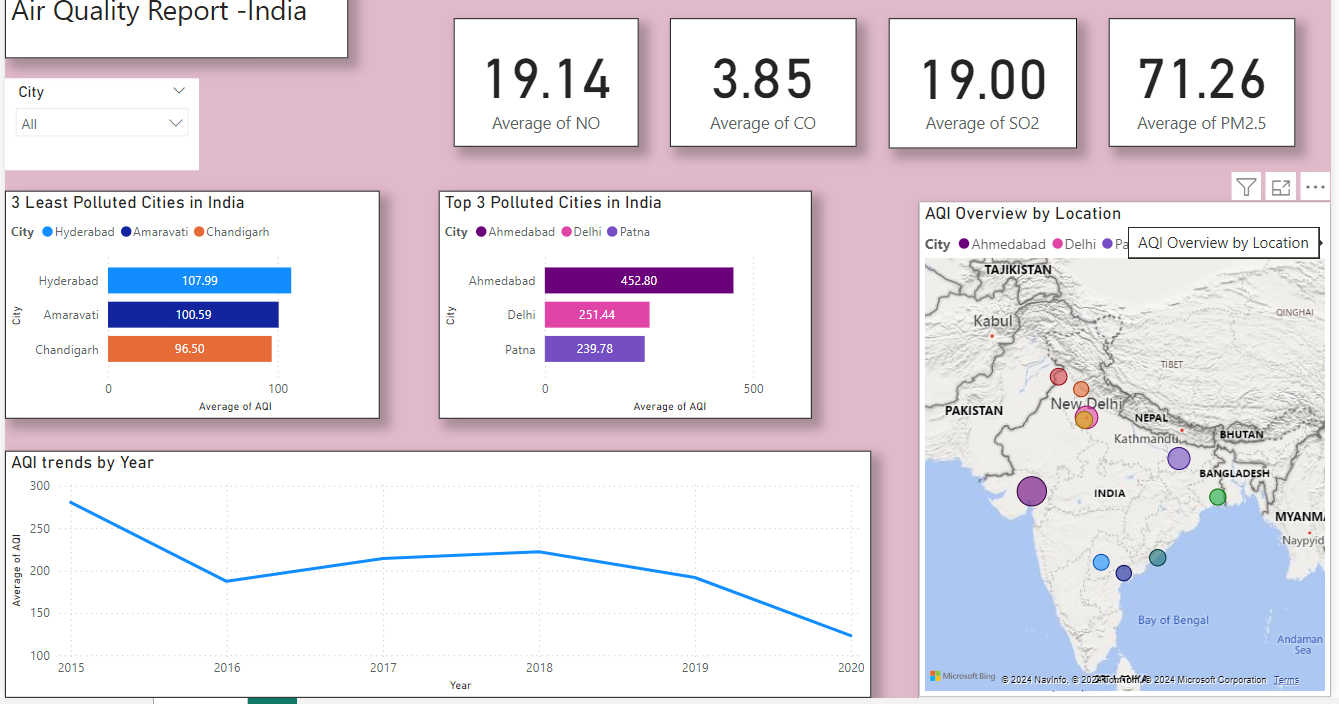

Layout of this report page (visuals, bound fields, positions):
{"tool":"powerbi","page":{"name":"Page 1","canvas":[1280,720],"ordinal":0},"visuals":[{"type":"lineChart","title":" AQI trends by Year","fields":{"Category":["city_day.Date.Variation.Date Hierarchy.Year","city_day.Date.Variation.Date Hierarchy.Quarter","city_day.Date.Variation.Date Hierarchy.Month","city_day.Date.Variation.Date Hierarchy.Day"],"Y":["Avg(city_day.AQI)"]},"box":[0,481.4,835.7,238.6],"z":0},{"type":"slicer","fields":{"Values":["city_day.City"]},"box":[0,121.4,187.1,88.6],"z":1000},{"type":"barChart","title":"Top 3 Polluted Cities in India","fields":{"Category":["city_day.City"],"Y":["Avg(city_day.AQI)"],"Series":["city_day.City"]},"box":[418.6,230,360,220],"z":2000},{"type":"barChart","title":"3 Least Polluted Cities in India","fields":{"Category":["city_day.City"],"Y":["Avg(city_day.AQI)"],"Series":["city_day.City"]},"box":[0,230,361.4,220],"z":3000},{"type":"card","fields":{"Values":["Avg(city_day.CO)"]},"box":[642.4,64.1,180,124.3],"z":4000},{"type":"card","fields":{"Values":["Avg(city_day.SO2)"]},"box":[853.3,63.4,181.4,125.7],"z":5000},{"type":"card","fields":{"Values":["Avg(city_day.PM2.5)"]},"box":[1065.7,64.1,180,124.3],"z":6000},{"type":"card","fields":{"Values":["Avg(city_day.NO)"]},"box":[432.9,64.1,178.6,124.3],"z":7000},{"type":"map","title":"AQI Overview by Location","fields":{"Category":["city_day.City"],"Size":["Avg(city_day.AQI)"],"Series":["city_day.City"]},"box":[881.4,241.4,398.6,478.6],"z":8000},{"type":"textbox","box":[0,31.4,331.4,71.4],"z":9000}]}

Visuals, with their boxes in screenshot pixels (x1, y1, x2, y2):
" AQI trends by Year" lineChart: Rect(0, 450, 867, 698)
slicer - city_day.City: Rect(0, 77, 194, 169)
"Top 3 Polluted Cities in India" barChart: Rect(434, 190, 807, 418)
"3 Least Polluted Cities in India" barChart: Rect(0, 190, 375, 418)
card - Avg(city_day.CO): Rect(666, 18, 853, 147)
card - Avg(city_day.SO2): Rect(885, 17, 1073, 147)
card - Avg(city_day.PM2.5): Rect(1105, 18, 1292, 147)
card - Avg(city_day.NO): Rect(449, 18, 634, 147)
"AQI Overview by Location" map: Rect(914, 202, 1327, 698)
textbox: Rect(0, 0, 344, 58)
